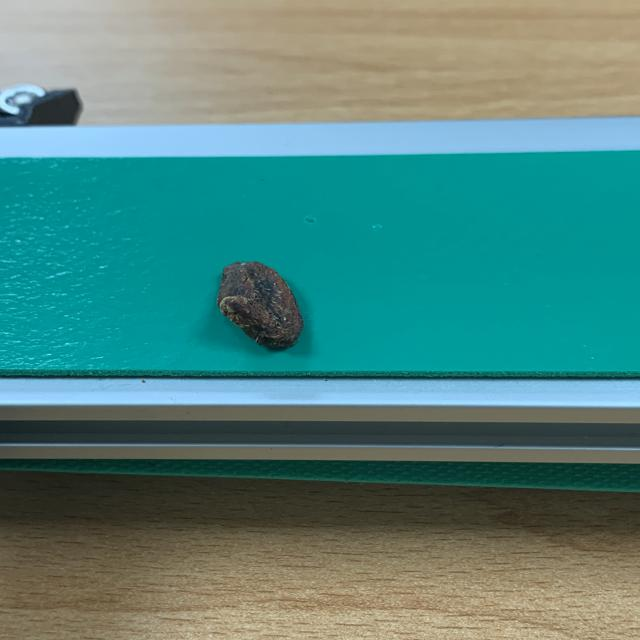Flat_cocoabeans: (126, 230, 410, 395)
